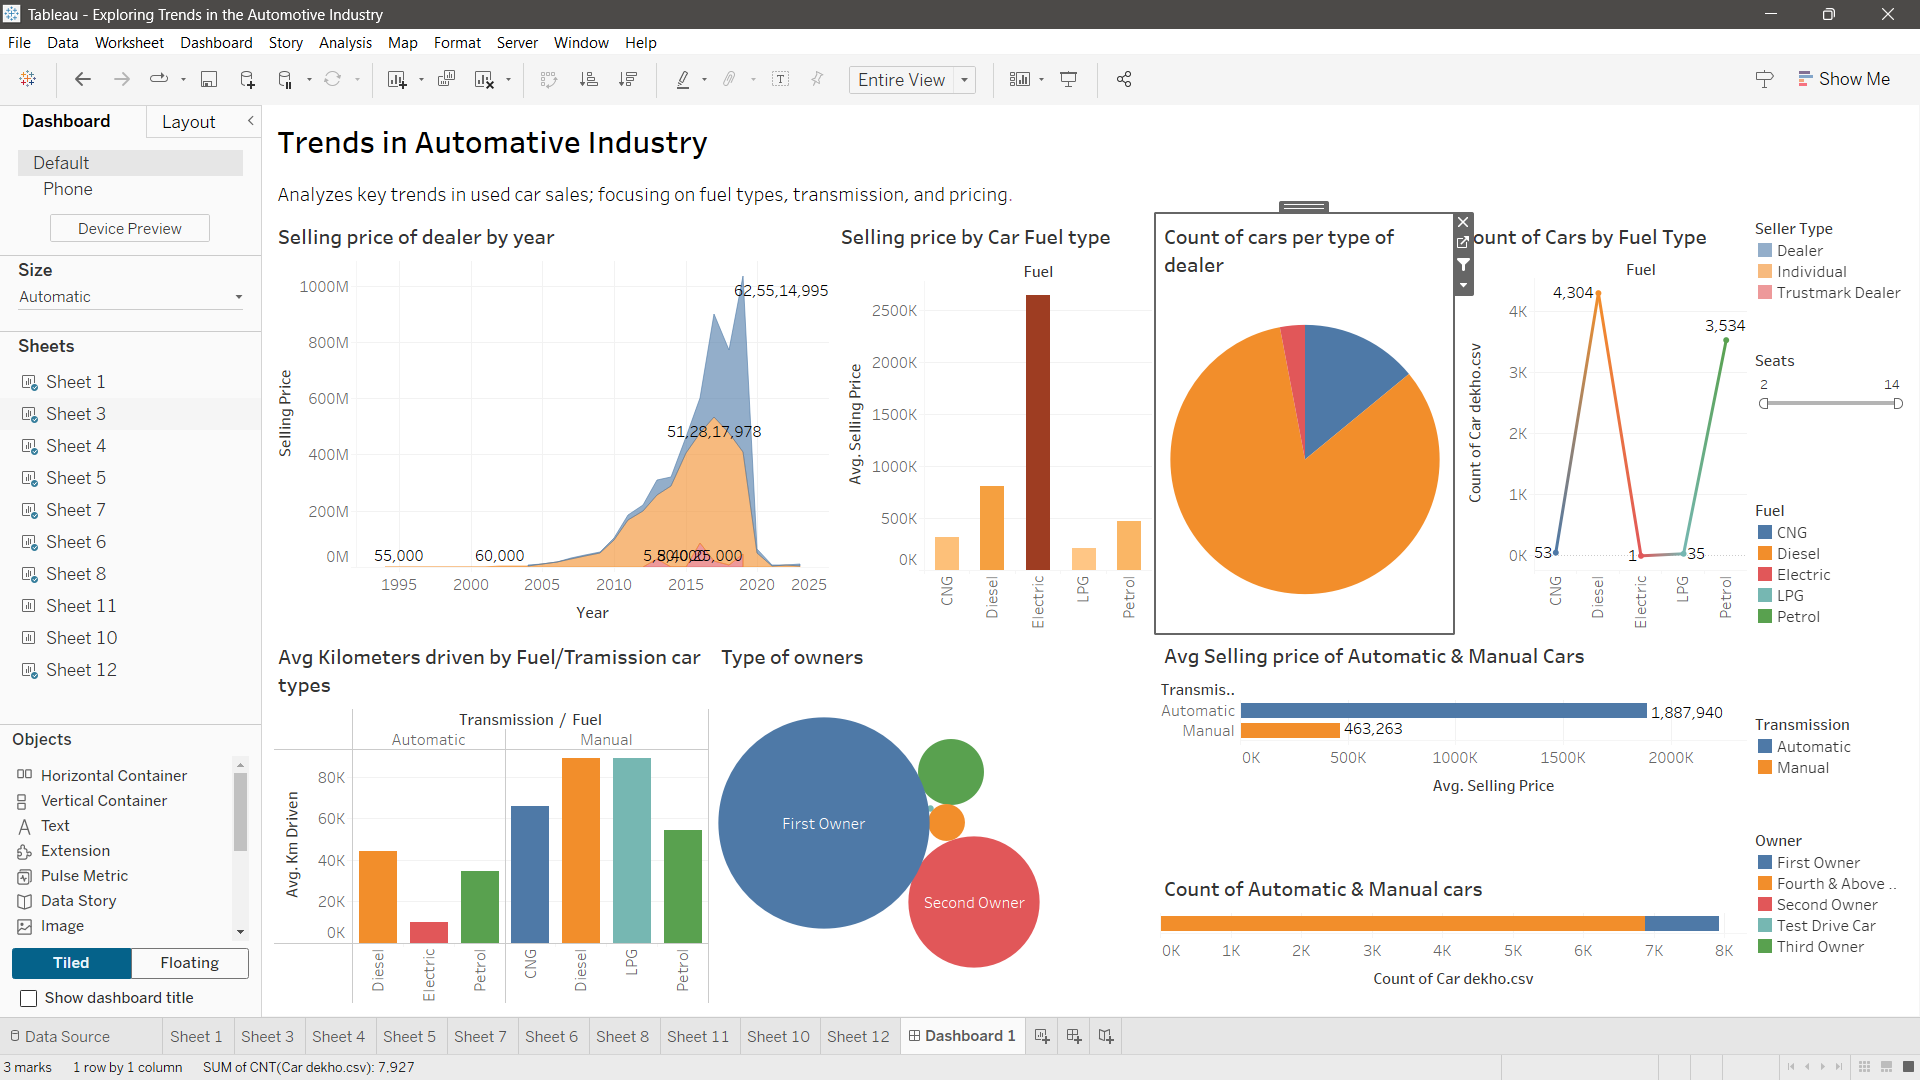

The dashboard page shown, as its layout file describes it:
{"tool":"tableau","page":{"name":"Dashboard 1","canvas":[1000,1000],"units":"permille","ordinal":0},"visuals":[{"type":"text","box":[4.8,9.4,990.3,110.5]},{"type":"worksheet","title":"Sheet 1","mark":"Area","rows":["selling_price"],"cols":["year"],"box":[4.8,119.9,339.8,460.6]},{"type":"worksheet","title":"Sheet 5","mark":"Automatic","rows":["selling_price"],"cols":["fuel"],"box":[344.6,119.9,194.9,460.6]},{"type":"worksheet","title":"Sheet 3","mark":"Pie","box":[539.5,119.9,179.6,460.1]},{"type":"worksheet","title":"Sheet 7","mark":"Line","rows":["Car dekho.csv_B43718E081E843B59D8FF8763C8ACAAE"],"cols":["fuel"],"box":[719.1,119.9,179.5,460.1]},{"type":"legend","title":"Sheet 1","param":"[federated.0txxlry03zd4a510yl8910zqodeq].[none:seller_type:nk]","box":[898.6,119.9,96.6,155.1]},{"type":"filter","title":"Sheet 12","param":"[federated.0txxlry03zd4a510yl8910zqodeq].[none:seats:qk]","box":[898.6,275,96.6,176.3]},{"type":"legend","title":"Sheet 12","param":"[federated.0txxlry03zd4a510yl8910zqodeq].[none:fuel:nk]","box":[898.6,451.2,96.6,251.5]},{"type":"worksheet","title":"Sheet 6","mark":"Automatic","rows":["transmission"],"cols":["selling_price"],"box":[539.5,579.9,359.1,255]},{"type":"worksheet","title":"Sheet 12","mark":"Automatic","rows":["km_driven"],"cols":["transmission","fuel"],"box":[4.8,580.5,267.4,410.1]},{"type":"worksheet","title":"Sheet 8","mark":"Circle","box":[272.2,580.5,267.3,410.1]},{"type":"legend","title":"Sheet 4","param":"[federated.0txxlry03zd4a510yl8910zqodeq].[none:transmission:nk]","box":[898.6,702.7,96.6,136.3]},{"type":"worksheet","title":"Sheet 4","mark":"Automatic","cols":["Car dekho.csv_B43718E081E843B59D8FF8763C8ACAAE"],"box":[539.5,834.9,359.1,155.7]},{"type":"legend","title":"Sheet 8","param":"[federated.0txxlry03zd4a510yl8910zqodeq].[none:owner:nk]","box":[898.6,839,96.6,151.6]}]}

Visuals, with their boxes on the dashboard's canvas, which has no fixed pixel size, in thousandths of its width and height (x1, y1, x2, y2). These are canvas units, not pixel positions in the 1920x1080 screenshot, which may show the page scaled, cropped or inside an application window:
text: rect(5, 9, 995, 120)
"Sheet 1" worksheet (Area marks): rect(5, 120, 345, 580)
"Sheet 5" worksheet: rect(345, 120, 540, 580)
"Sheet 3" worksheet (Pie marks): rect(540, 120, 719, 580)
"Sheet 7" worksheet (Line marks): rect(719, 120, 899, 580)
"Sheet 1" legend: rect(899, 120, 995, 275)
"Sheet 12" filter: rect(899, 275, 995, 451)
"Sheet 12" legend: rect(899, 451, 995, 703)
"Sheet 6" worksheet: rect(540, 580, 899, 835)
"Sheet 12" worksheet: rect(5, 580, 272, 991)
"Sheet 8" worksheet (Circle marks): rect(272, 580, 540, 991)
"Sheet 4" legend: rect(899, 703, 995, 839)
"Sheet 4" worksheet: rect(540, 835, 899, 991)
"Sheet 8" legend: rect(899, 839, 995, 991)
